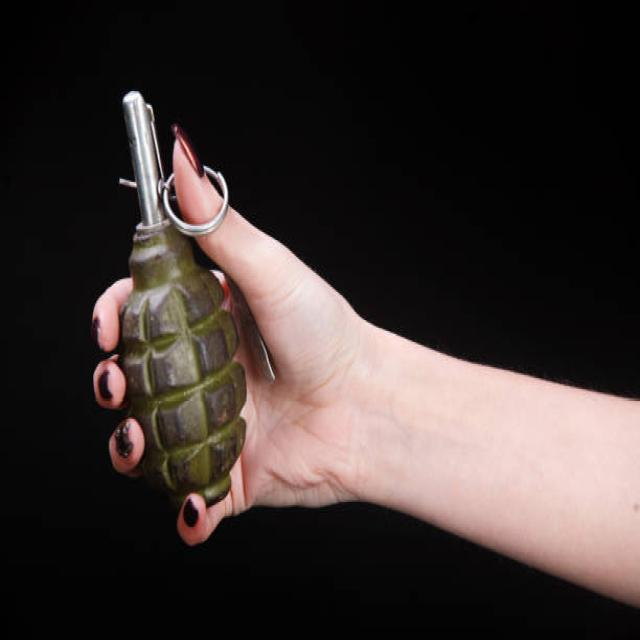grenade: (110, 86, 251, 509)
